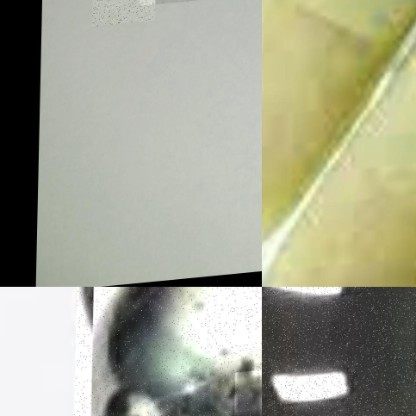ironball: (74, 286, 261, 415), (261, 286, 415, 415), (91, 0, 155, 27), (139, 0, 209, 8)
